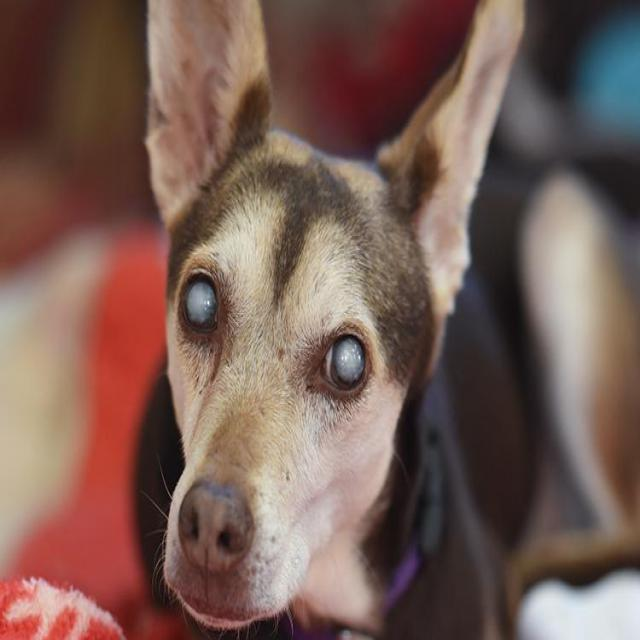eye: (312, 325, 372, 399), (174, 267, 224, 341)
